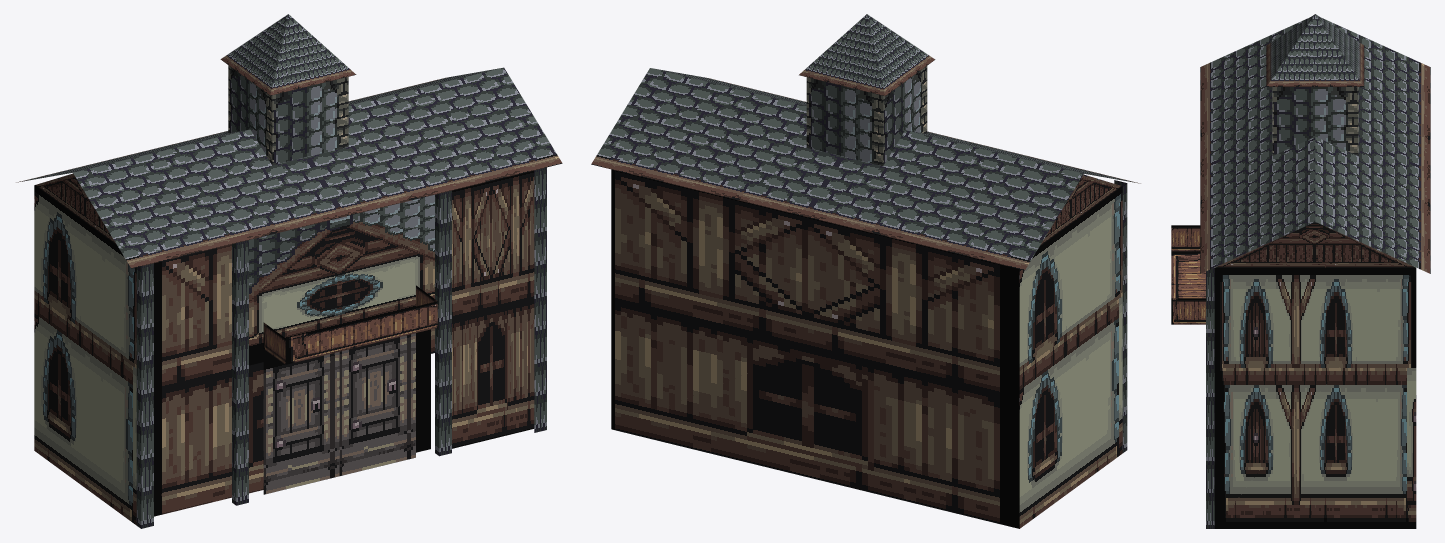
Rendered from town_hall.glb.
3 renders of one model, left to right at view 1: azimuth 30°, elevation 25°; view 2: azimuth 150°, elevation 25°; view 3: azimuth 270°, elevation 25°, orthographic. The views are drawn at different scales.
Parts seen in each view (by area): view 1: Roof_F, Wall_Left, Wall_FL, Wall_FR, Wall_FTop, Door_L, Door_R, Tower_F, Balcony_Rail, Pil0_F, Pil1_F, Pil2_F (+9 smaller); view 2: Wall_Back, Roof_B, Wall_Left, Tower_B, TowerRoof_B, Tower_L, TowerRoof_L, Gable_L, Pil0_S, Roof_F; view 3: Wall_Right, Roof_F, Roof_B, Tower_R, Gable_R, TowerRoof_R, Pil3_S, Balcony_Bot, TowerRoof_B, TowerRoof_F, Balcony_R, Balcony_L.
Part boxes in pixels (<box>): Roof_F: <box>73,67,562,268</box>; Wall_Left: <box>34,185,136,525</box>; Wall_FL: <box>154,244,430,516</box>; Wall_FR: <box>452,170,534,448</box>; Wall_FTop: <box>249,194,434,365</box>; Door_L: <box>263,352,339,494</box>; Door_R: <box>339,333,415,475</box>; Tower_F: <box>272,77,348,165</box>; Balcony_Rail: <box>285,301,437,364</box>; Pil0_F: <box>141,263,153,528</box>; Pil1_F: <box>236,240,248,505</box>; Pil2_F: <box>439,190,451,455</box>; Wall_Back: <box>611,169,1019,528</box>; Roof_B: <box>591,68,1083,270</box>; Wall_Left: <box>1019,186,1122,528</box>; Tower_B: <box>806,77,883,166</box>; TowerRoof_B: <box>799,14,884,95</box>; Tower_L: <box>883,66,927,165</box>; TowerRoof_L: <box>867,14,935,95</box>; Gable_L: <box>1039,174,1122,247</box>; Pil0_S: <box>1122,183,1127,452</box>; Roof_F: <box>652,68,1140,183</box>; Wall_Right: <box>1214,268,1416,528</box>; Roof_F: <box>1200,17,1315,273</box>; Roof_B: <box>1315,18,1430,273</box>; Tower_R: <box>1272,87,1358,155</box>; Gable_R: <box>1215,222,1415,267</box>; TowerRoof_R: <box>1266,14,1363,86</box>; Pil3_S: <box>1206,268,1214,528</box>; Balcony_Bot: <box>1171,251,1205,298</box>; TowerRoof_B: <box>1316,14,1364,86</box>; TowerRoof_F: <box>1266,14,1314,86</box>; Balcony_R: <box>1171,298,1205,324</box>; Balcony_L: <box>1171,225,1200,251</box>.
Size of what is drawn, in the model's own units: 17 by 16 by 9.
Materials: 1 (1 with a texture image).
